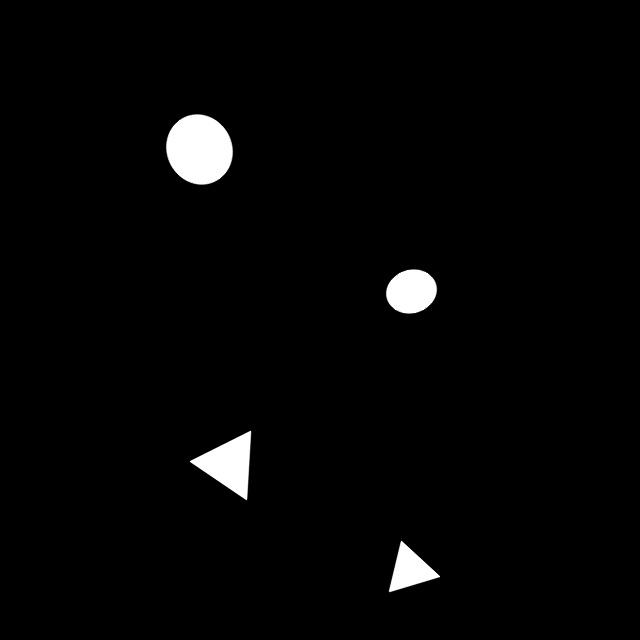Circle: (150, 106, 244, 203), (375, 258, 447, 330)
Triangle: (169, 416, 270, 517), (375, 533, 447, 607)
